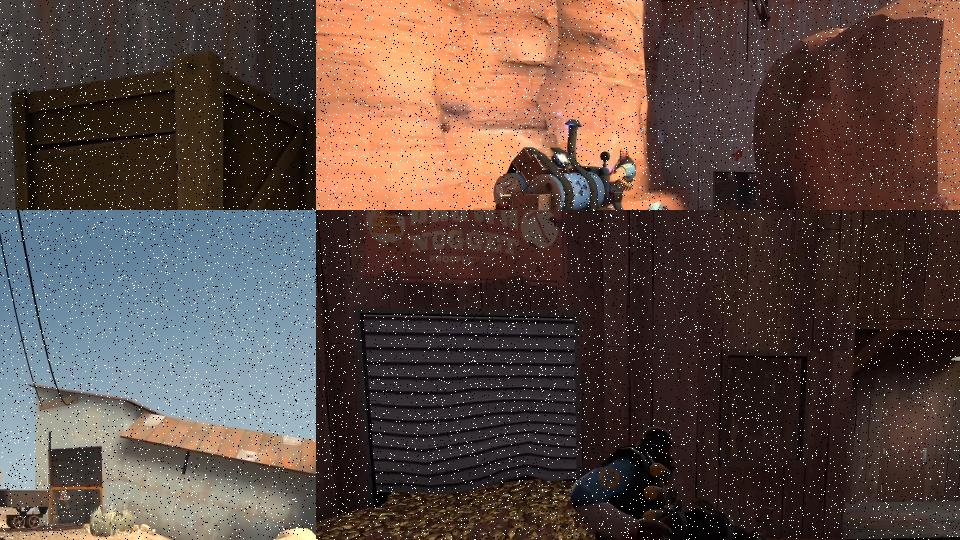Enemy: (567, 423, 775, 540), (597, 147, 636, 210), (639, 201, 680, 210), (58, 490, 69, 517)
